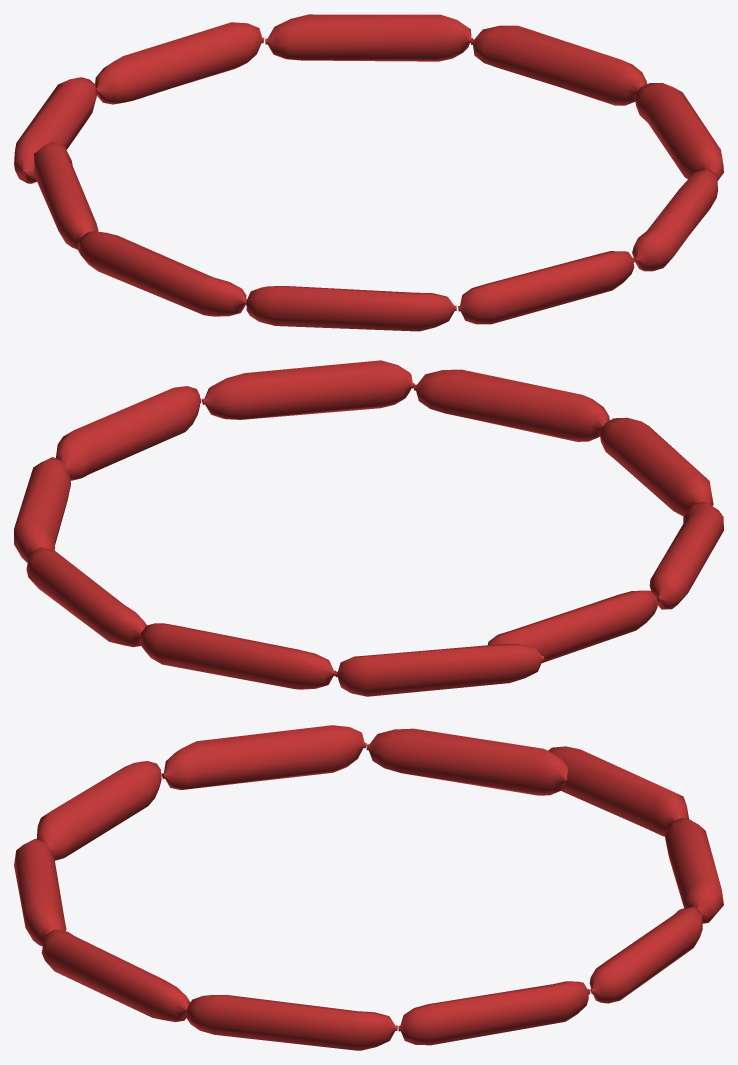
The model's file is Salchicha de carne.fbx.
The picture shows the model from 3 angles, top to bottom: view 1: azimuth 30°, elevation 25°; view 2: azimuth 150°, elevation 25°; view 3: azimuth 270°, elevation 25°; orthographic projection.
Visible parts, largest first — view 1: Salchichas de carniceria; view 2: Salchichas de carniceria; view 3: Salchichas de carniceria.
Boxes of the visible parts, x1,y1,x2,y2 form: Salchichas de carniceria: (14,14,723,331); Salchichas de carniceria: (14,360,723,696); Salchichas de carniceria: (14,725,723,1050).
Bounding box in the file's own units: 34.16 × 2.33 × 34.29.
